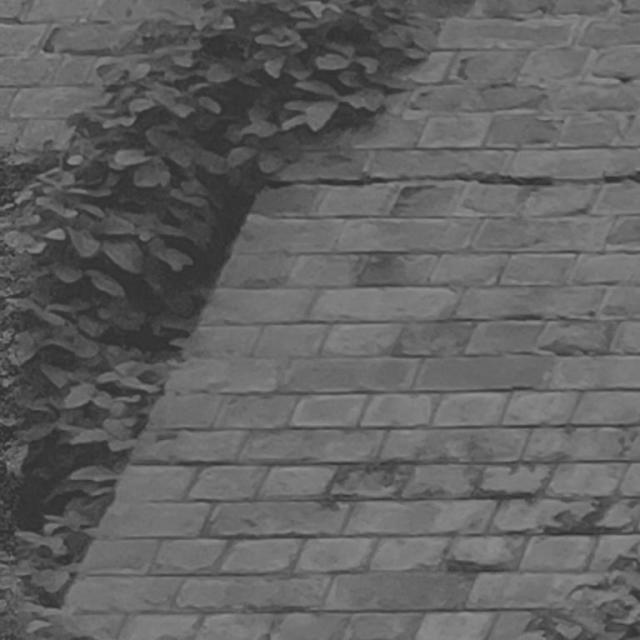crack: (263, 171, 640, 190)
